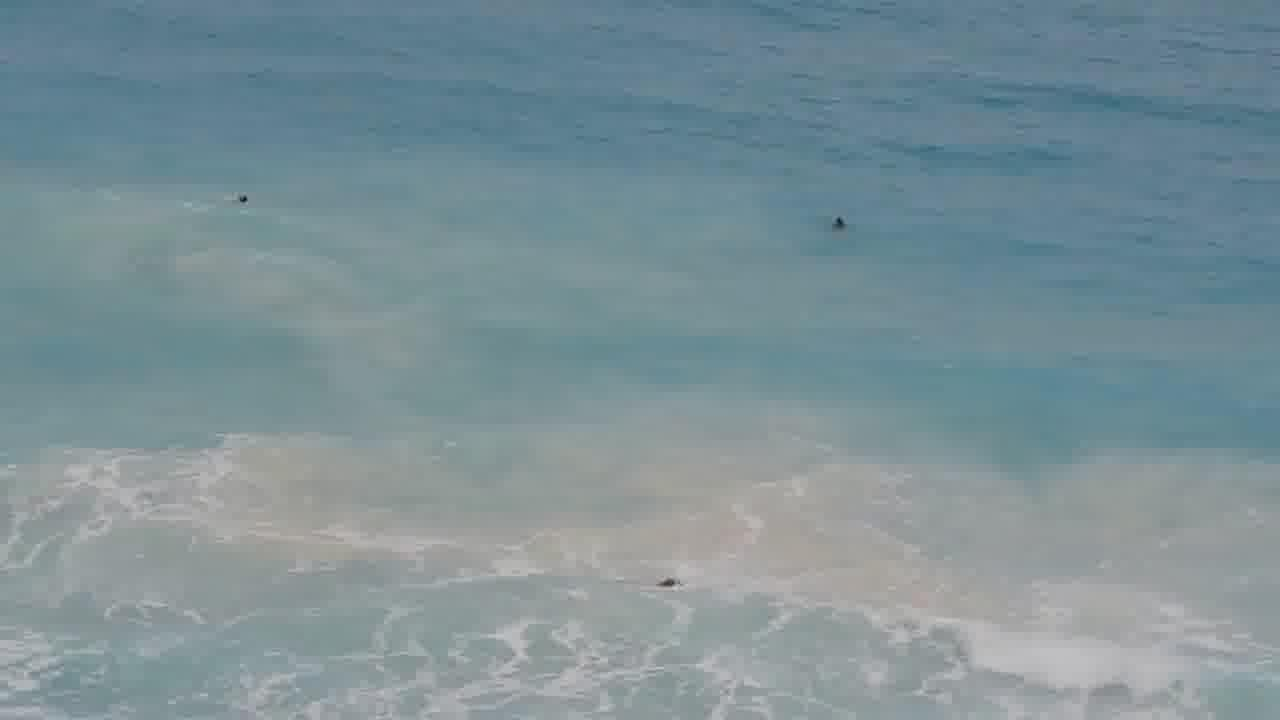human: (218, 182, 276, 220), (641, 561, 694, 596), (817, 202, 858, 243)
